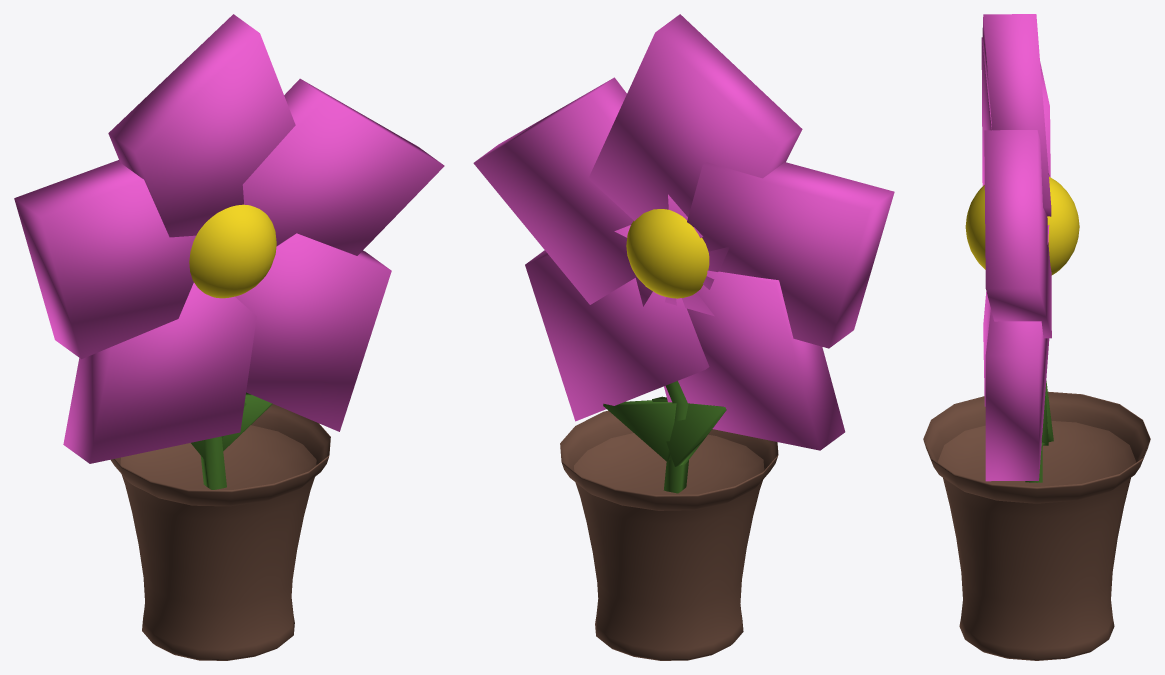
Rendered from flower.gltf.
3 renders of one model, left to right at view 1: azimuth 30°, elevation 25°; view 2: azimuth 150°, elevation 25°; view 3: azimuth 270°, elevation 25°, orthographic. The views are drawn at different scales.
Visible parts, largest first — view 1: Cube.004, Cube, Sphere, Cube.001, Cube.003; view 2: Cube.004, Cube, Sphere, Cube.003, Cube.002, Cube.001; view 3: Cube, Cube.004, Sphere.
Part boxes in pixels (left/top/right/bottom): Cube.004: left=14, top=14, right=444, bottom=463; Cube: left=110, top=404, right=330, bottom=660; Sphere: left=189, top=204, right=276, bottom=298; Cube.001: left=200, top=436, right=226, bottom=489; Cube.003: left=222, top=392, right=272, bottom=450; Cube.004: left=473, top=14, right=894, bottom=450; Cube: left=560, top=410, right=778, bottom=660; Sphere: left=626, top=209, right=709, bottom=298; Cube.003: left=603, top=400, right=676, bottom=461; Cube.002: left=652, top=396, right=726, bottom=466; Cube.001: left=663, top=381, right=688, bottom=493; Cube: left=923, top=391, right=1150, bottom=660; Cube.004: left=981, top=14, right=1051, bottom=481; Sphere: left=965, top=176, right=1079, bottom=275.
Bounding box in the file's own units: 4.32 × 6.23 × 2.06.
